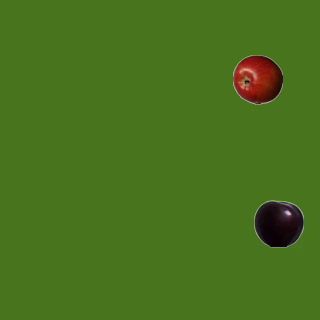Apple Braeburn: (232, 54, 282, 104)
Cherry Wax Black: (253, 198, 303, 248)
